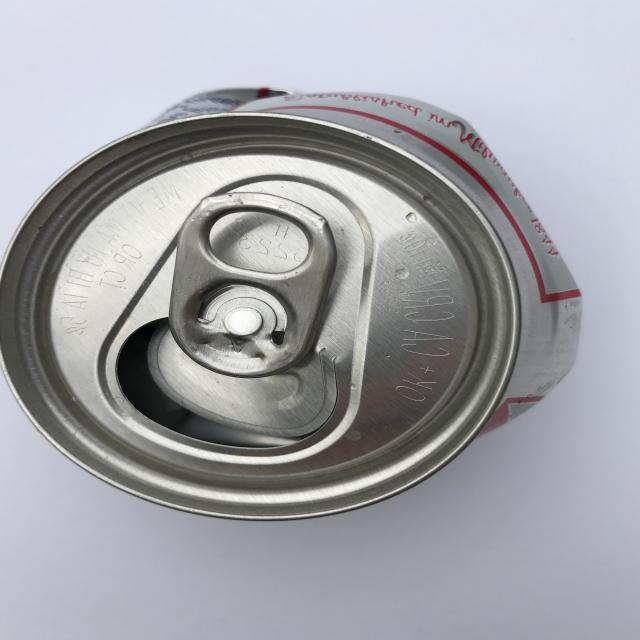metal: (0, 87, 583, 521)
